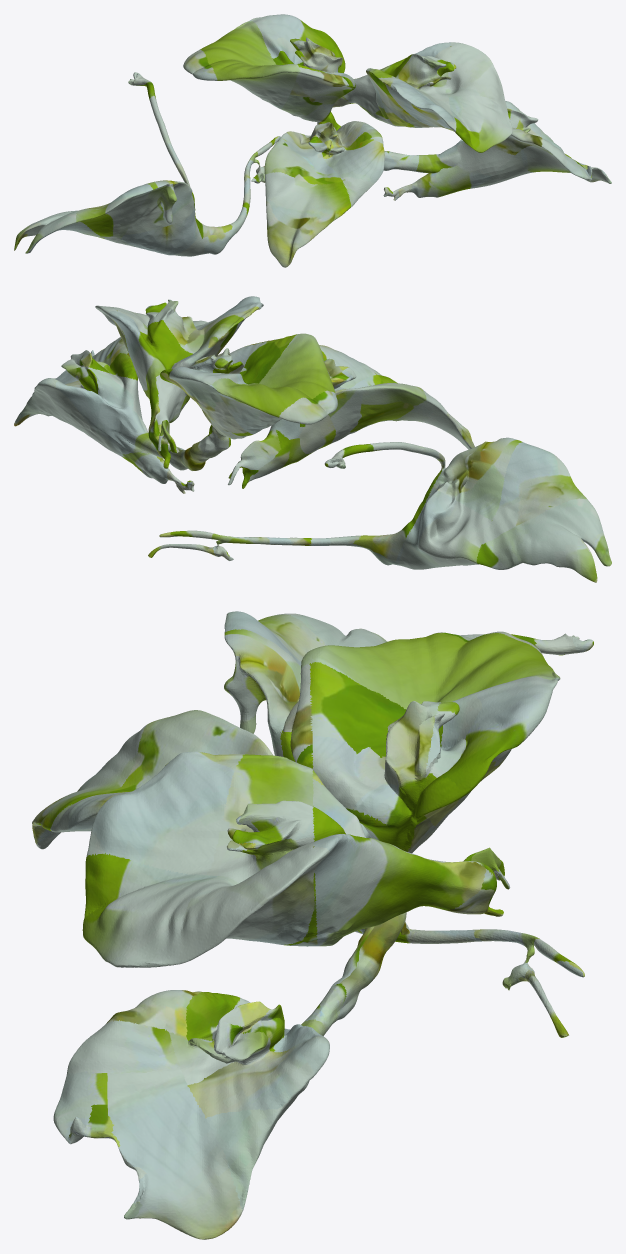
File: shankhpushpi.glb
The picture shows the model from 3 angles, top to bottom: view 1: azimuth 30°, elevation 25°; view 2: azimuth 150°, elevation 25°; view 3: azimuth 270°, elevation 25°; orthographic projection. The views are drawn at different scales.
Visible parts, largest first — view 1: tripo_node_c1458926-ab0c-43ff-a188-0b66bad4db59; view 2: tripo_node_c1458926-ab0c-43ff-a188-0b66bad4db59; view 3: tripo_node_c1458926-ab0c-43ff-a188-0b66bad4db59.
Boxes of the visible parts, x1,y1,x2,y2 form: tripo_node_c1458926-ab0c-43ff-a188-0b66bad4db59: [14, 14, 611, 267]; tripo_node_c1458926-ab0c-43ff-a188-0b66bad4db59: [14, 296, 611, 582]; tripo_node_c1458926-ab0c-43ff-a188-0b66bad4db59: [32, 611, 593, 1239].
Size of the model in its own units: 1 by 0.3107 by 0.4555.
Materials: 1 (1 with a texture image).
